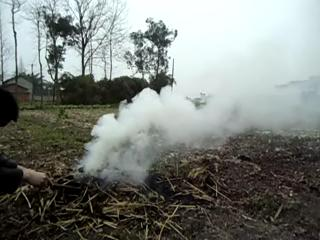yanwu: (81, 76, 293, 182)
